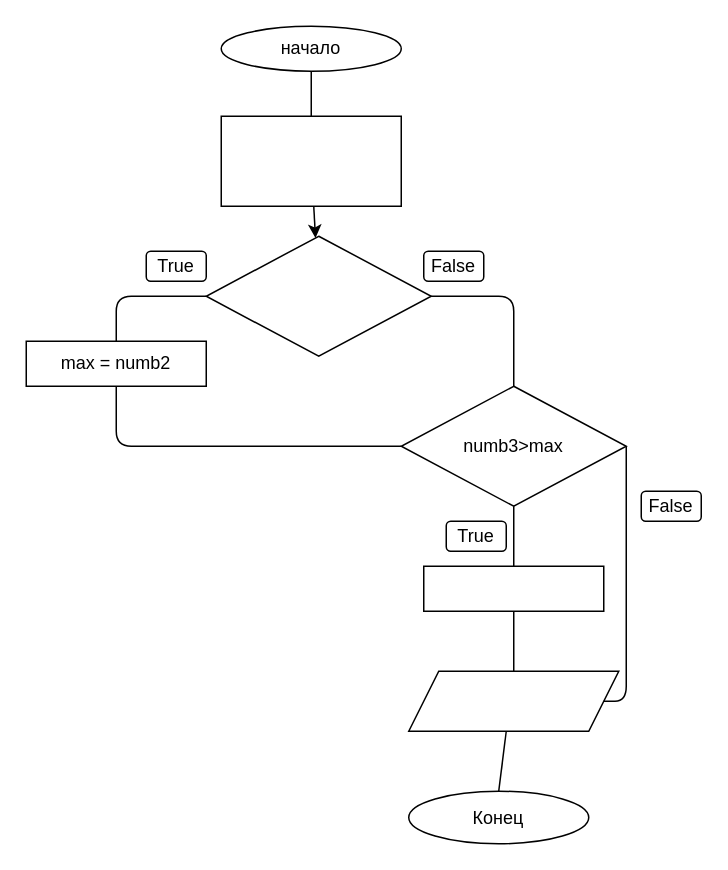
The diagram is 728 pixels wide and 870 high, and some of its shapes have lost their labels. The centre of each missing label's shape, as x and y in pixels:
max = numb3: the point at 513,588
numb1 = 2 numb2 = 3 numb3 = 7 max = numb1: the point at 310,160
numb2>max: the point at 318,295
Print(max): the point at 513,700
